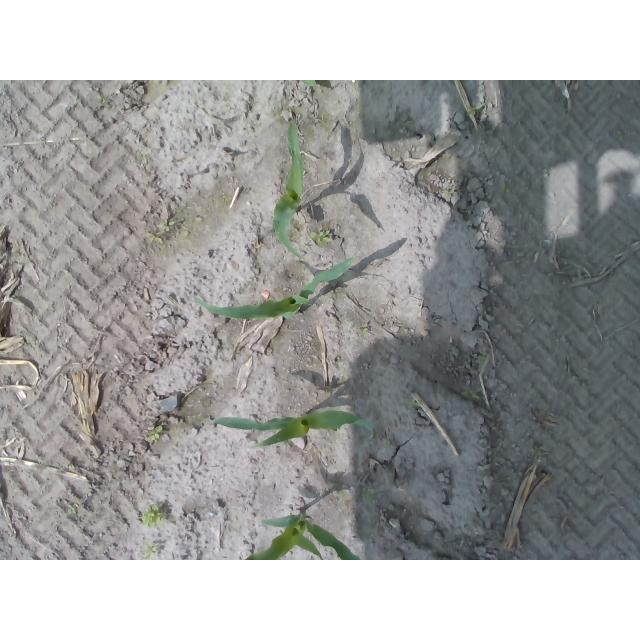Maize: (191, 257, 354, 319), (209, 409, 375, 448), (239, 510, 361, 560), (271, 120, 306, 265)
Weeds: (145, 219, 175, 242), (143, 504, 170, 528), (146, 423, 166, 442), (310, 231, 331, 248), (144, 543, 161, 560), (466, 103, 485, 118), (461, 390, 479, 401), (359, 487, 375, 499), (358, 324, 369, 337)
